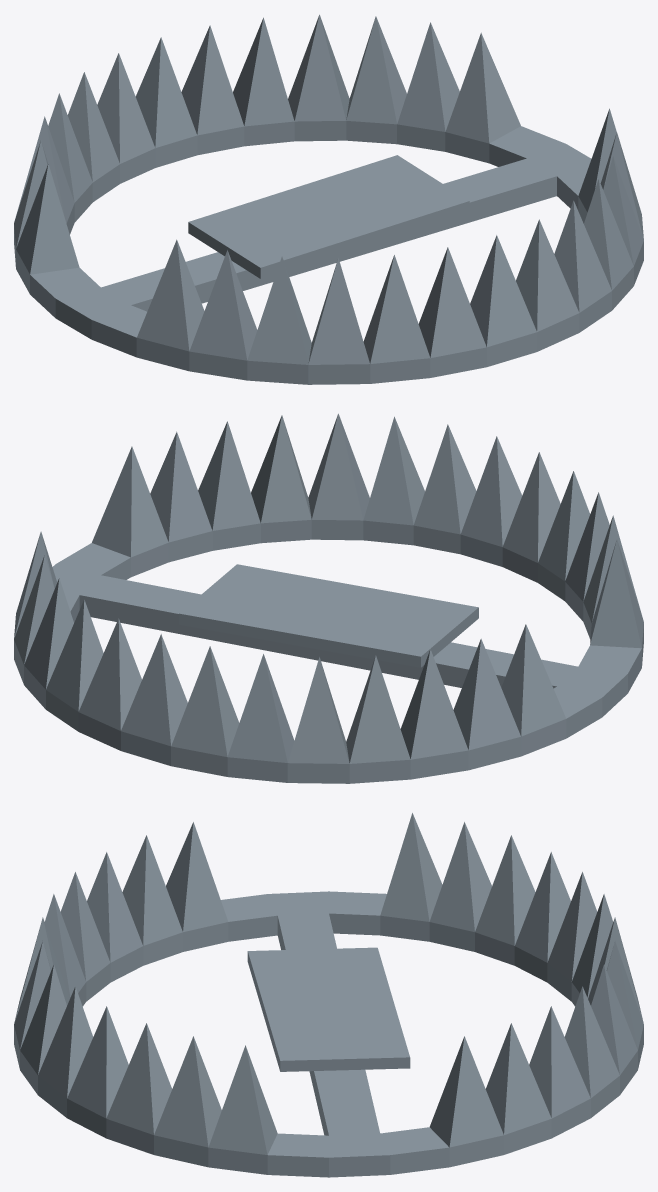
File: BearTrap.fbx
3 views of the same model, one above another, from view 1: azimuth 30°, elevation 25°; view 2: azimuth 150°, elevation 25°; view 3: azimuth 270°, elevation 25° (orthographic).
Parts seen in each view (by area): view 1: Cylinder; view 2: Cylinder; view 3: Cylinder.
Boxes of the visible parts, x1,y1,x2,y2 form: Cylinder: [14, 14, 643, 384]; Cylinder: [14, 413, 643, 783]; Cylinder: [14, 813, 643, 1177].
Size of the model in its own units: 200 by 40.53 by 200.
